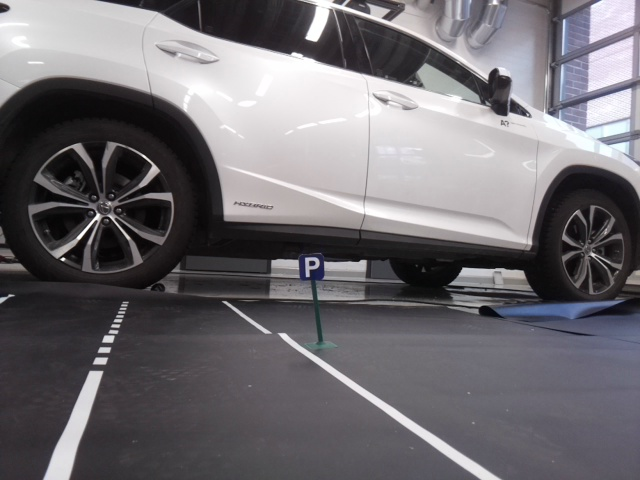Parking: (296, 252, 325, 280)
